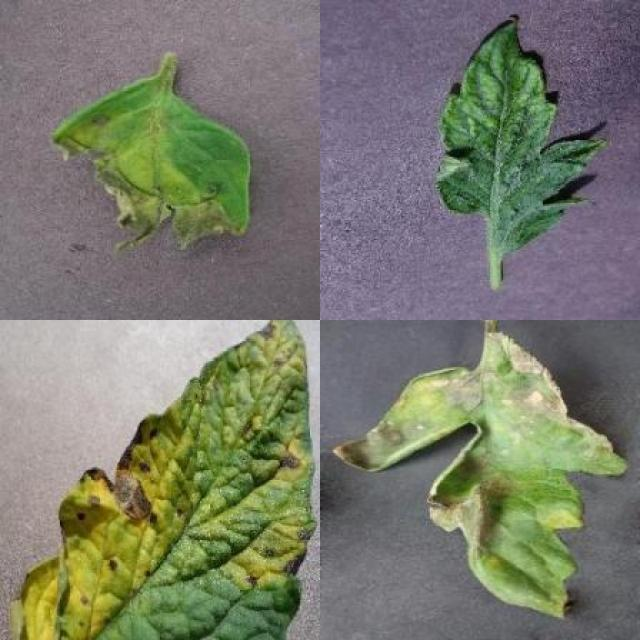Early Blight: (17, 320, 316, 640)
Late Blight: (332, 332, 628, 622), (50, 69, 253, 254)
Mosaic Virus: (434, 13, 606, 256)
